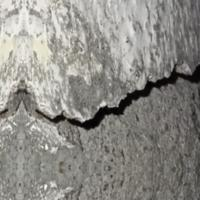crack: (1, 50, 199, 149)
